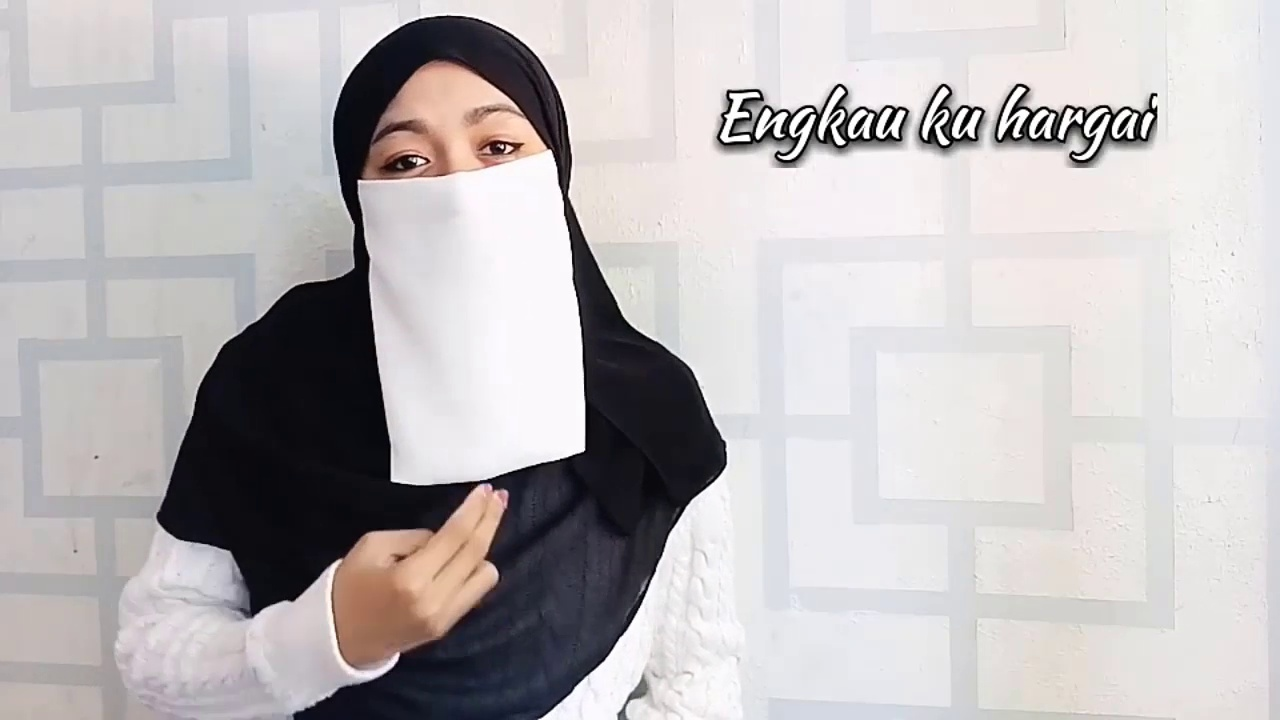AKU: (179, 451, 718, 720)
